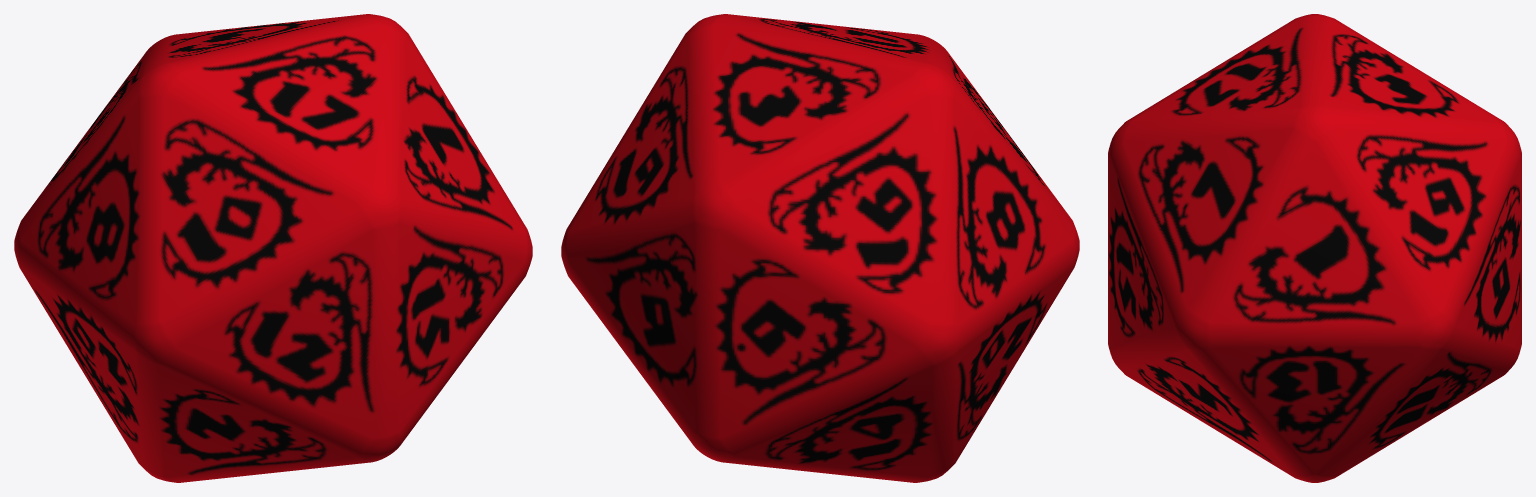
The model's file is d20_dragons_SDRA04.glb.
3 renders of one model, left to right at view 1: azimuth 30°, elevation 25°; view 2: azimuth 150°, elevation 25°; view 3: azimuth 270°, elevation 25°, orthographic. The views are drawn at different scales.
Visible parts, largest first — view 1: Solid; view 2: Solid; view 3: Solid.
Part boxes in pixels (x1,y1,x2,y2): Solid: (14, 14, 532, 482); Solid: (561, 14, 1079, 482); Solid: (1108, 14, 1521, 482).
Size of the model in its own units: 168 by 168 by 168.
Materials: 1 (1 with a texture image).
